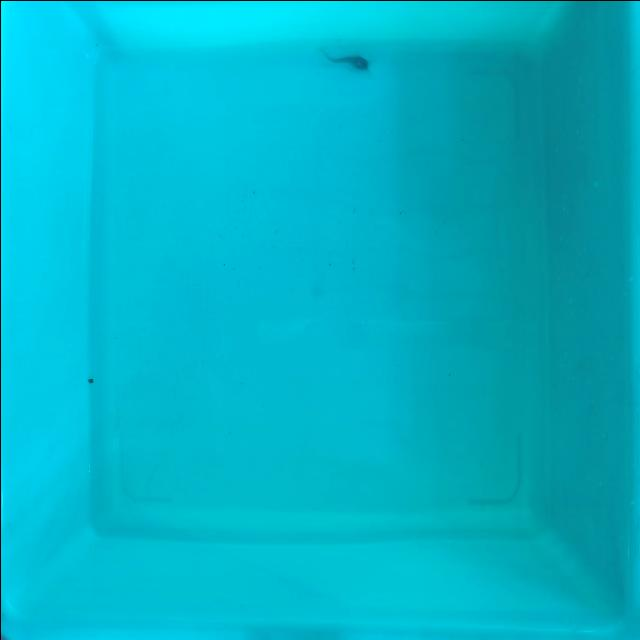lele: (319, 47, 378, 71)
